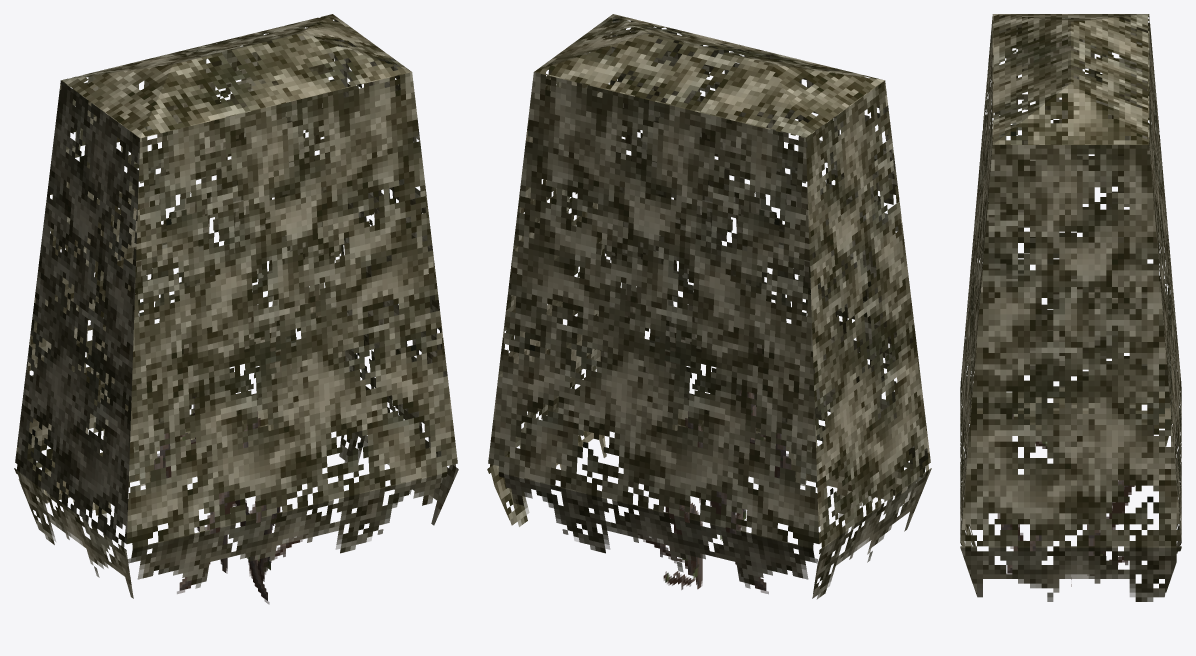
File: bush_tall_half_single_roots_dead.glb
The picture shows the model from 3 angles, left to right: view 1: azimuth 30°, elevation 25°; view 2: azimuth 150°, elevation 25°; view 3: azimuth 270°, elevation 25°; orthographic projection.
Parts seen in each view (by area): view 1: bush_tall_half_single_roots_dead; view 2: bush_tall_half_single_roots_dead; view 3: bush_tall_half_single_roots_dead.
Boxes of the visible parts, <box> form: bush_tall_half_single_roots_dead: <box>14,14,458,604</box>; bush_tall_half_single_roots_dead: <box>487,14,931,599</box>; bush_tall_half_single_roots_dead: <box>960,14,1181,601</box>.
Bounding box in the file's own units: 1.23 × 1.88 × 0.7191.
Materials: 2 (2 with a texture image).
